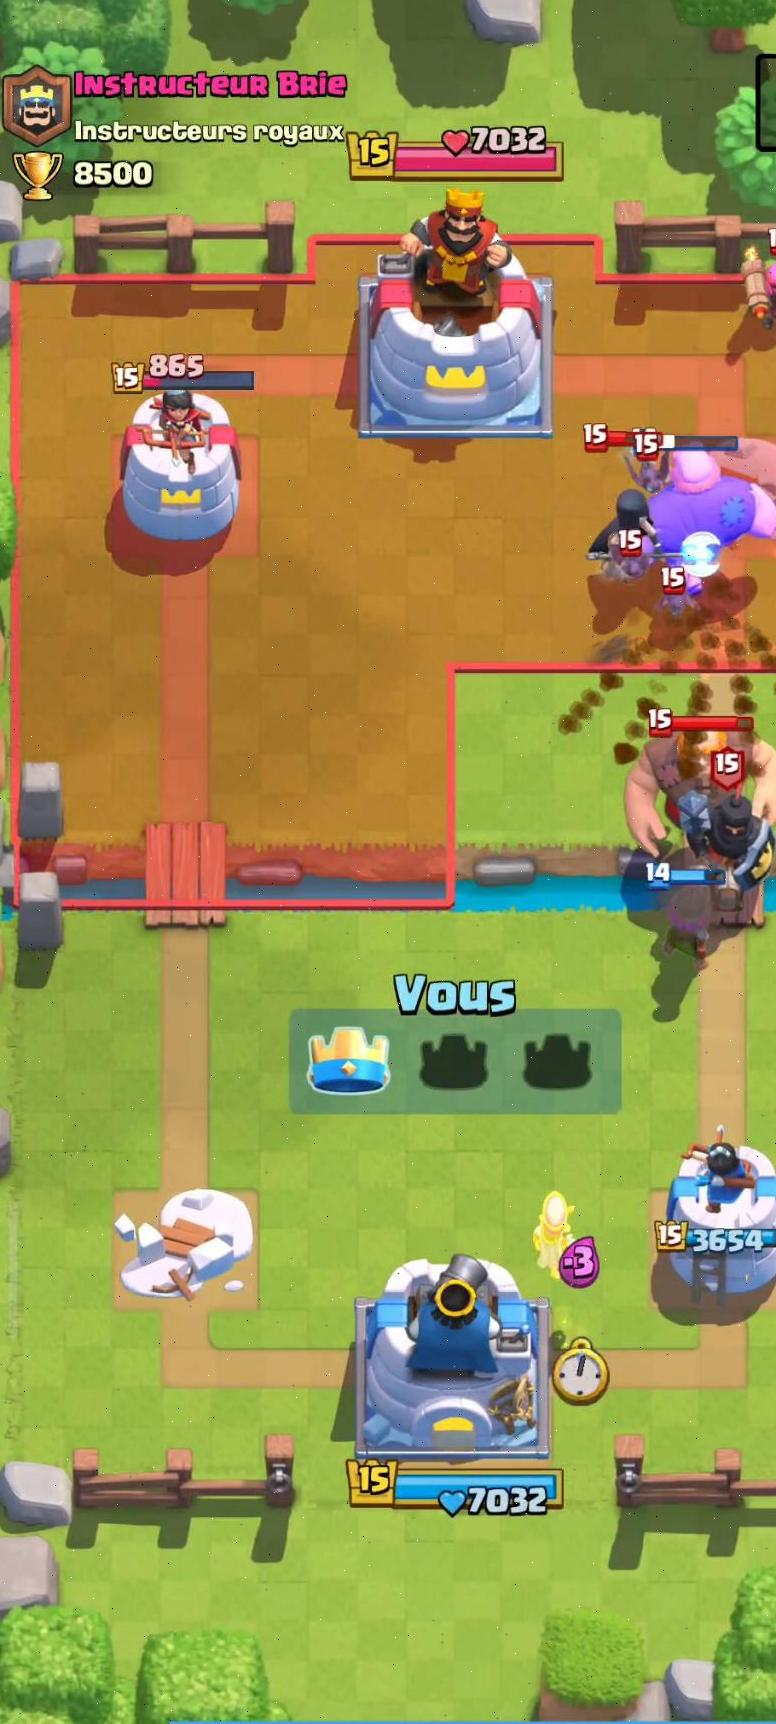enemy_bats: (618, 420, 681, 496), (586, 531, 668, 587)
enemy_dark_prince: (678, 745, 776, 918)
enemy_firecracker: (734, 230, 776, 333)
enemy_giant: (620, 702, 776, 874)
enemy_night_witch: (576, 425, 669, 575)
player_giant: (614, 441, 776, 568)
player_musketeer: (635, 858, 727, 962)
